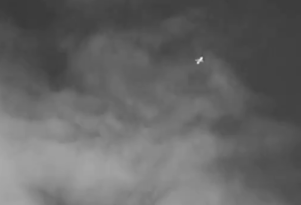Target: (195, 58, 203, 64)
